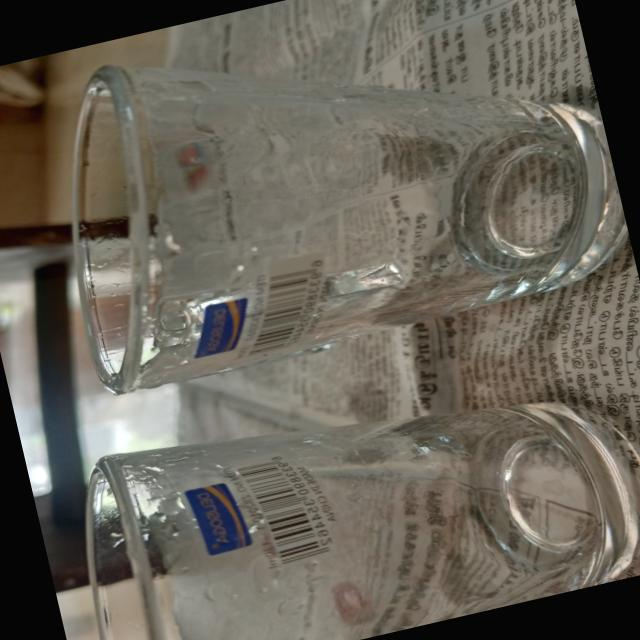glass-VX4N: (30, 0, 638, 398), (53, 336, 640, 640)
